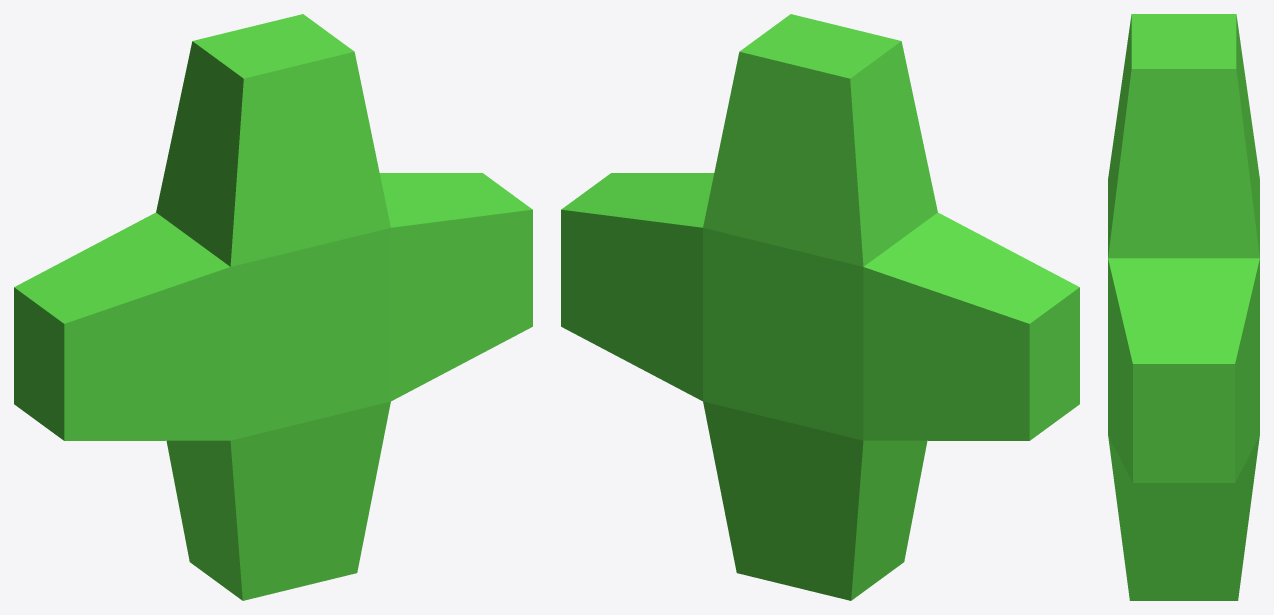
The model's file is heal_2.fbx.
3 views of the same model, side by side, from view 1: azimuth 30°, elevation 25°; view 2: azimuth 150°, elevation 25°; view 3: azimuth 270°, elevation 25° (orthographic).
Visible parts, largest first — view 1: Cube; view 2: Cube; view 3: Cube.
Boxes of the visible parts, x1,y1,x2,y2 form: Cube: (14,14,532,600); Cube: (561,14,1079,600); Cube: (1108,14,1259,600).
Size of the model in its own units: 137 by 146 by 37.86.
